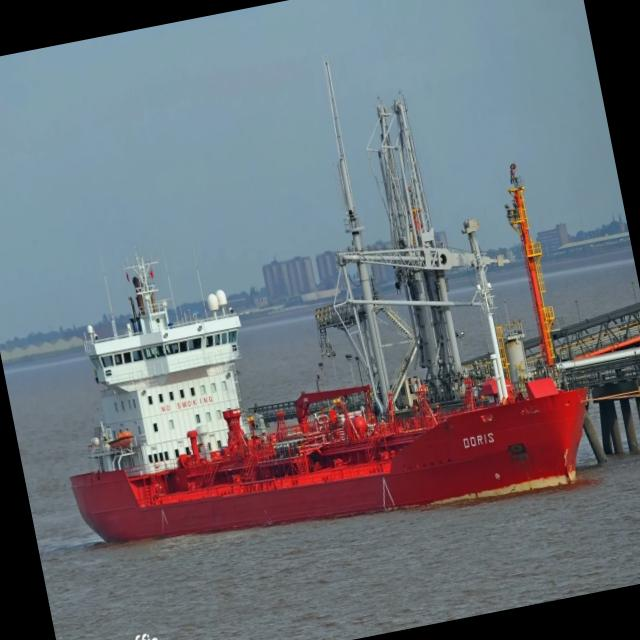Tanker: (70, 234, 586, 542)
